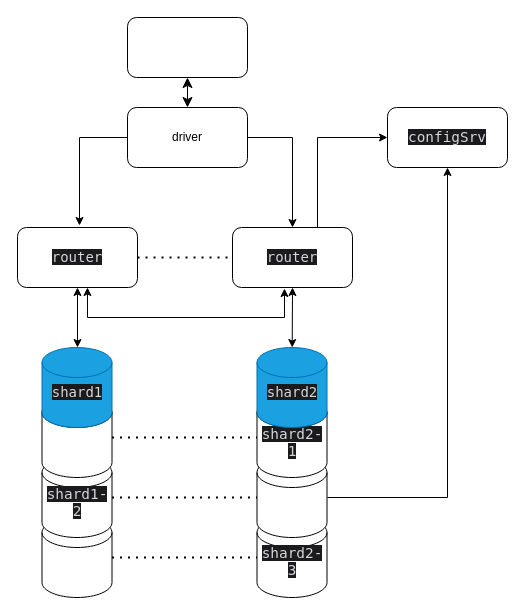
This 525x615 diagram has some shape labels left out. Here are the shapes that lost their labels. From the top down, the centre of each, then its label:
At [187,47]: "pymongo-api".
At [76,437]: "shard1-1".
At [291,497]: "shard2-2".
At [76,557]: "shard1-3".
